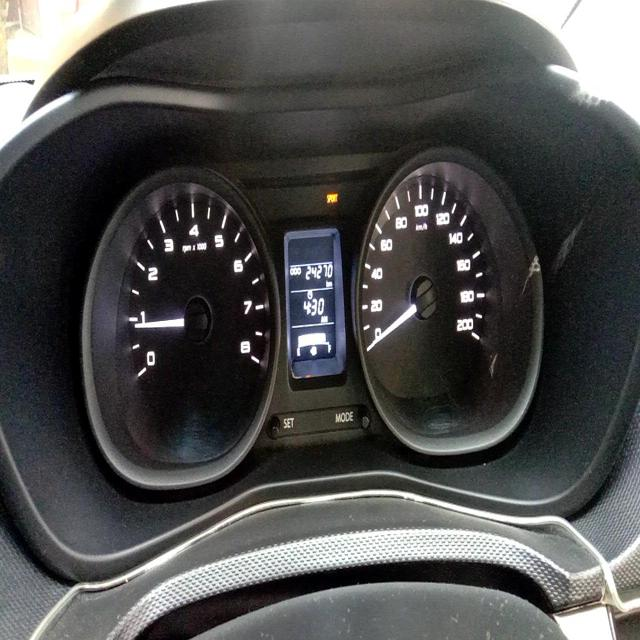odometer: (304, 263, 333, 281)
